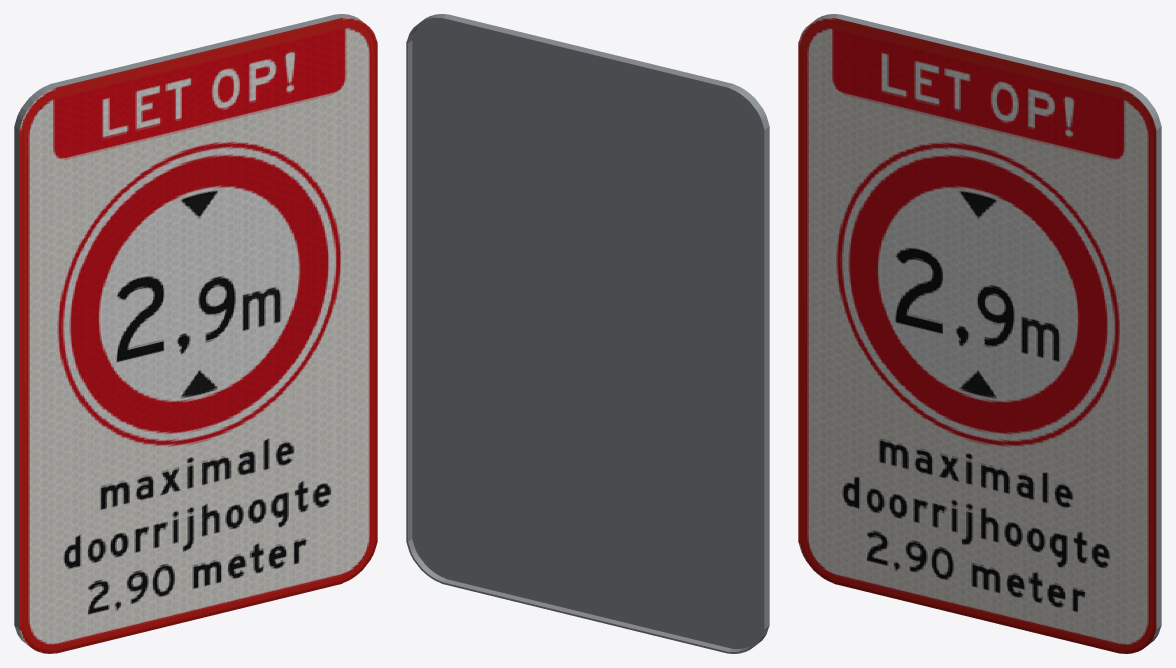
3 views of the same model, side by side, from view 1: azimuth 30°, elevation 25°; view 2: azimuth 150°, elevation 25°; view 3: azimuth 330°, elevation 25° (orthographic).
Parts seen in each view (by area): view 1: cat_598c2b1065a555e4; view 2: cat_598c2b1065a555e4; view 3: cat_598c2b1065a555e4.
Part boxes in pixels (box(x1,y1,x2,y2)): cat_598c2b1065a555e4: box(14, 14, 377, 653); cat_598c2b1065a555e4: box(406, 14, 769, 653); cat_598c2b1065a555e4: box(798, 14, 1161, 653).
Bounding box in the file's own units: 0.6 × 0.015 × 0.9061.
2 materials, 1 textured.
